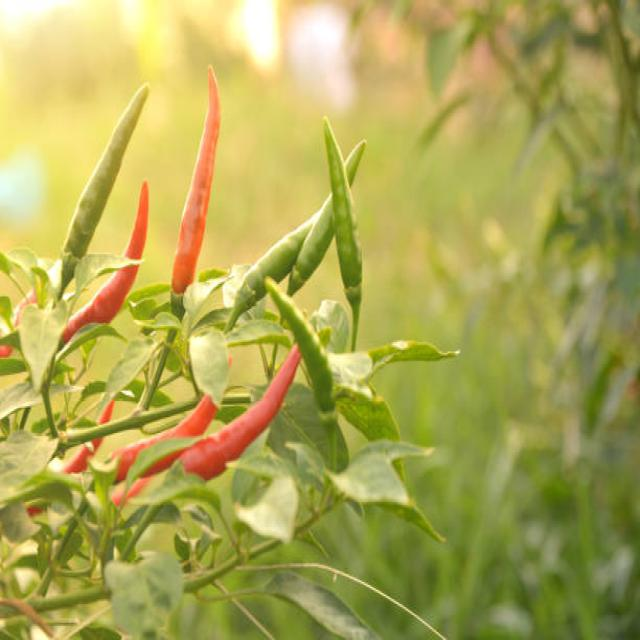Ripe: (179, 345, 301, 479), (171, 66, 220, 295), (111, 396, 218, 481), (62, 267, 139, 342), (125, 182, 149, 259)
Unripe: (62, 84, 149, 258), (288, 135, 366, 295), (228, 215, 318, 329), (265, 278, 332, 412), (324, 118, 361, 350)
